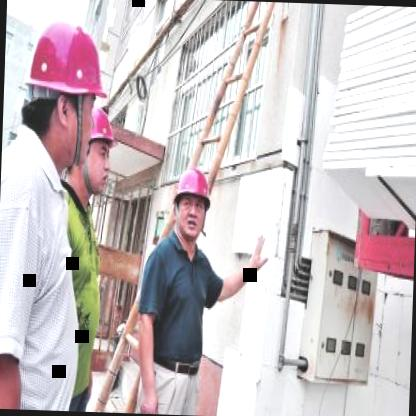helmet: (20, 10, 113, 177), (168, 160, 217, 249), (80, 100, 118, 192)
